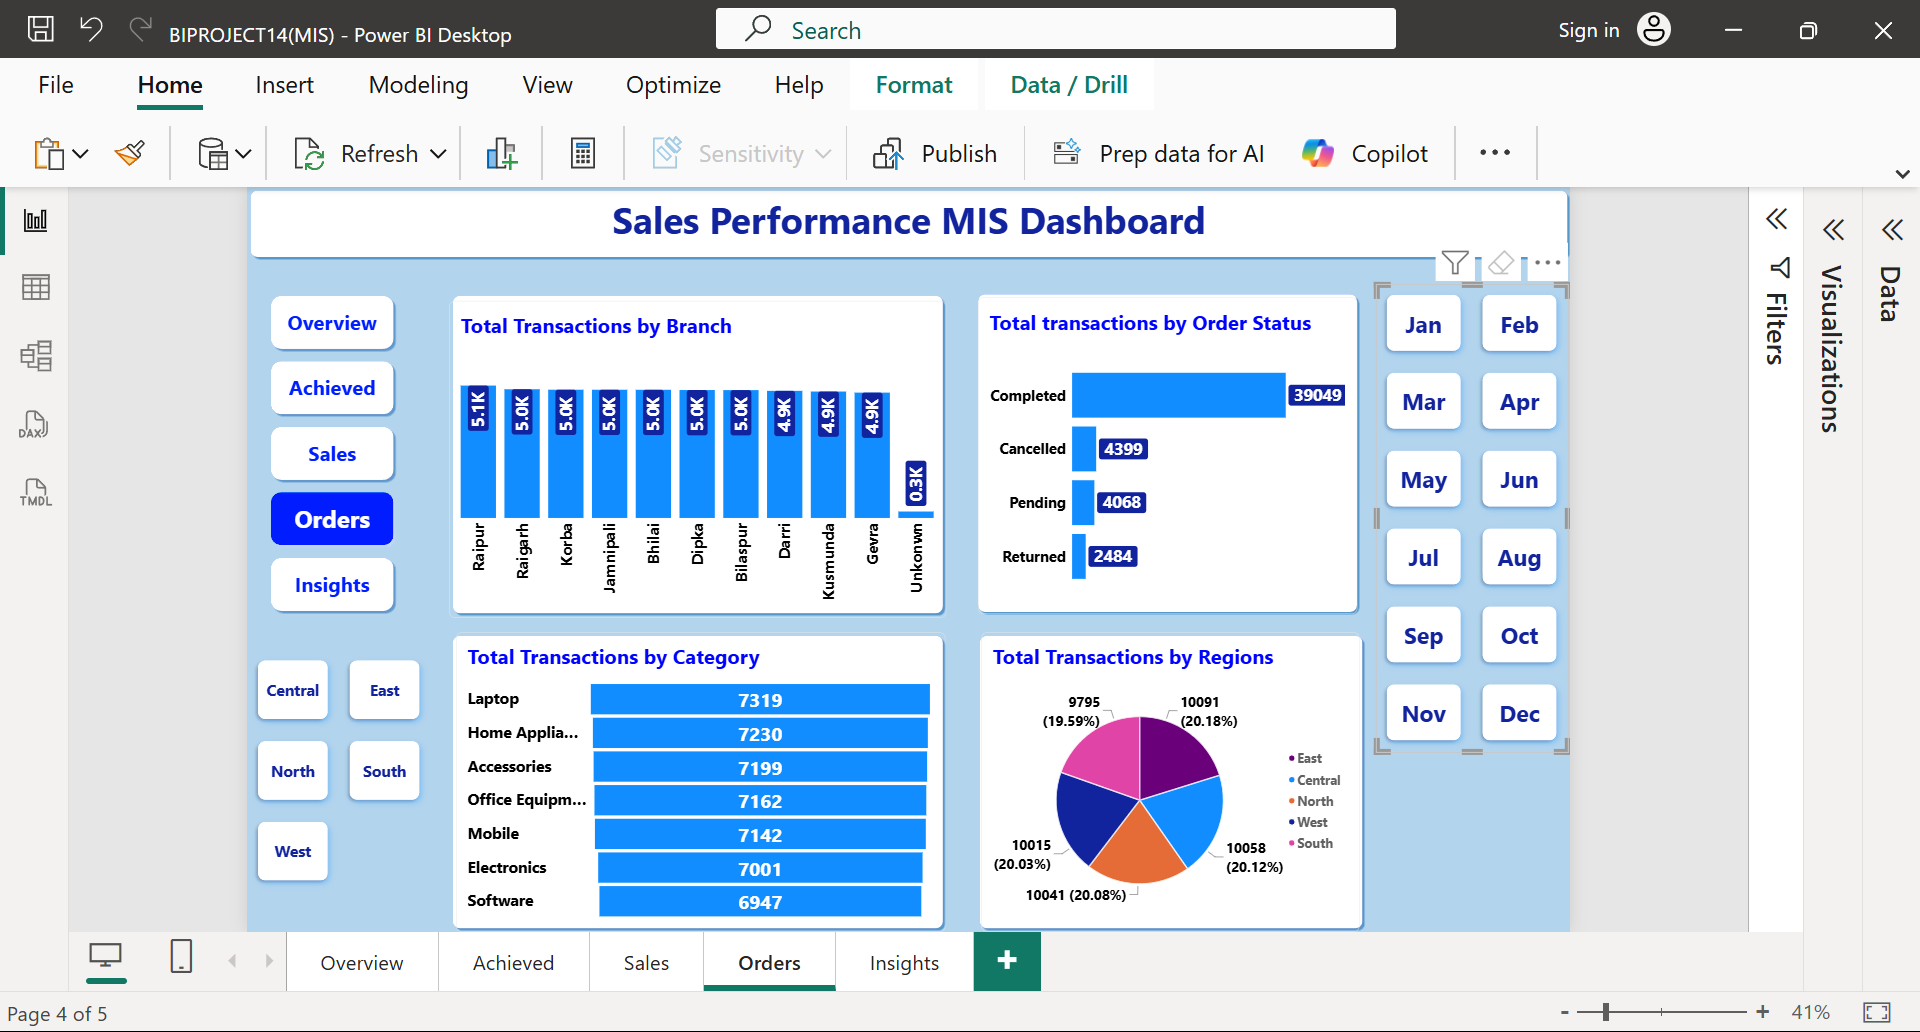

Layout of this report page (visuals, bound fields, positions):
{"tool":"powerbi","page":{"name":"Orders","canvas":[1920,1080],"ordinal":3},"visuals":[{"type":"shape","box":[0,0,1920,106.7],"z":0},{"type":"pageNavigator","box":[29,153.9,188.8,470.5],"z":1000},{"type":"advancedSlicerVisual","fields":{"Values":["Clean_data.Region"]},"box":[0,670.9,267.2,351.4],"z":2000},{"type":"advancedSlicerVisual","fields":{"Values":["Date Table.Month"]},"box":[1638.1,139.4,278.8,682.5],"z":3000},{"type":"shape","box":[292.2,153.1,720.8,470.3],"z":4000},{"type":"textbox","box":[0,10,1920.2,105.8],"z":5000},{"type":"shape","box":[1055.2,150.4,559.6,470.9],"z":6000},{"type":"clusteredColumnChart","title":"Total Transactions by Branch","fields":{"Category":["Clean_data.Branch"],"Y":["Date Table.Total TXN"]},"box":[292.2,164.2,720.8,459.2],"z":7000},{"type":"clusteredBarChart","title":"Total transactions by Order Status","fields":{"Y":["Date Table.Total TXN"],"Category":["Clean_data.Order_Status"]},"box":[1060.1,160.2,549.8,458.5],"z":8000},{"type":"shape","box":[292.2,645.6,720.8,434.1],"z":9000},{"type":"shape","box":[1057.5,645.6,564.9,434.1],"z":10000},{"type":"funnel","title":"Total Transactions by Category","fields":{"Category":["Clean_data.Product_Category"],"Y":["Date Table.Total TXN"]},"box":[302.2,645.9,709.7,434.1],"z":11000},{"type":"pieChart","title":"Total Transactions by Regions","fields":{"Category":["Clean_data.Region"],"Y":["Date Table.Total TXN"]},"box":[1065.9,645.6,548.2,434.1],"z":12000}]}

Visuals, with their boxes on the page's 1920x1080 design canvas (x1, y1, x2, y2). These are canvas units, not pixel positions in the 1920x1032 screenshot, which may show the page scaled, cropped or inside an application window:
shape: [left=0, top=0, right=1920, bottom=107]
pageNavigator: [left=29, top=154, right=218, bottom=624]
advancedSlicerVisual - Clean_data.Region: [left=0, top=671, right=267, bottom=1022]
advancedSlicerVisual - Date Table.Month: [left=1638, top=139, right=1917, bottom=822]
shape: [left=292, top=153, right=1013, bottom=623]
textbox: [left=0, top=10, right=1920, bottom=116]
shape: [left=1055, top=150, right=1615, bottom=621]
"Total Transactions by Branch" clusteredColumnChart: [left=292, top=164, right=1013, bottom=623]
"Total transactions by Order Status" clusteredBarChart: [left=1060, top=160, right=1610, bottom=619]
shape: [left=292, top=646, right=1013, bottom=1080]
shape: [left=1058, top=646, right=1622, bottom=1080]
"Total Transactions by Category" funnel: [left=302, top=646, right=1012, bottom=1080]
"Total Transactions by Regions" pieChart: [left=1066, top=646, right=1614, bottom=1080]
